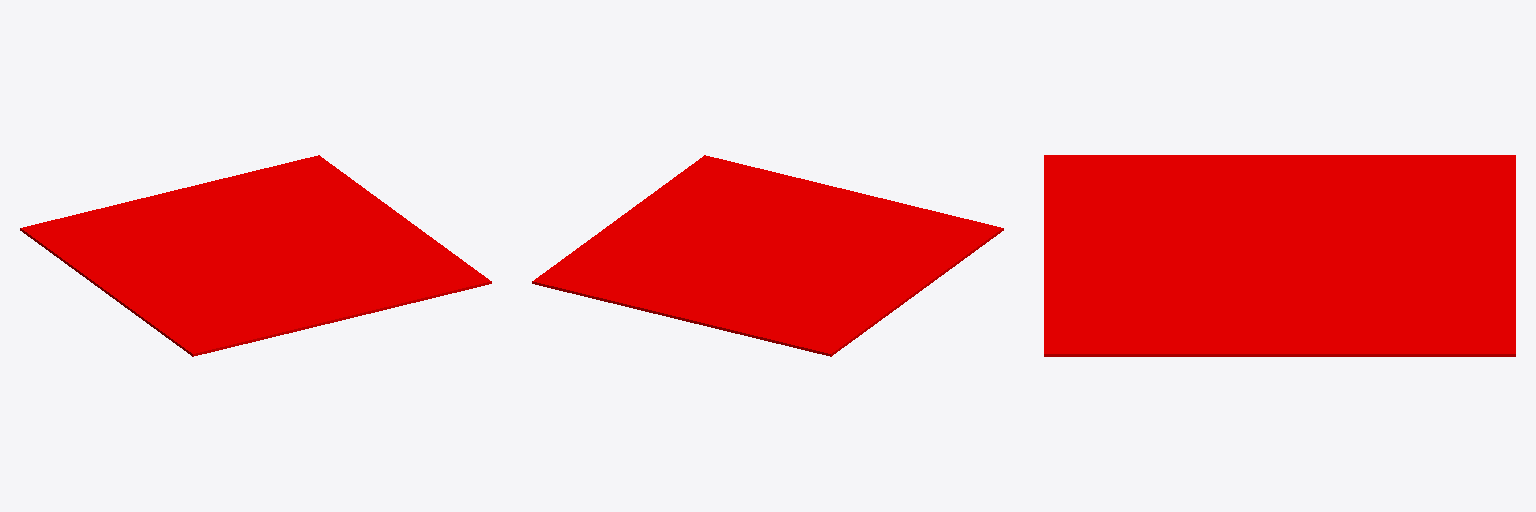
robot.urdf — goal_zone:
<?xml version="1.0" ?>
<robot name="goal_zone">
  <link name="base">
    <visual>
      <origin xyz="0 0 0" rpy="0 0 0"/>
      <geometry>
        <box size="0.12 0.12 0.001"/>
      </geometry>
      <material name="goal_color">
        <color rgba="1 0 0 0.4"/> <!-- green + transparent -->
      </material>
    </visual>
    <collision>
      <origin xyz="0 0 0" rpy="0 0 0"/>
      <geometry>
        <box size="0 0 0"/>
      </geometry>
    </collision>
    <inertial>
      <mass value="0.001"/>
      <inertia ixx="1e-5" iyy="1e-5" izz="1e-5"/>
    </inertial>
  </link>
</robot>

--- Render facts (derived) ---
The picture shows the robot from 3 angles, left to right: view 1: azimuth 30°, elevation 25°; view 2: azimuth 150°, elevation 25°; view 3: azimuth 270°, elevation 25°; orthographic projection.
Robot: goal_zone — 1 links, 0 joints (none); root link base; default pose: all joints at 0.
Visible links, largest first — view 1: base; view 2: base; view 3: base.
Link boxes in pixels (x1,y1,x2,y2): base: (20,155,491,356); base: (532,155,1003,356); base: (1044,155,1515,356).
Bounding box of the posed robot: 0.12 × 0.12 × 0.001 m (x, y, z).
Geometry: primitives only (box / cylinder / sphere), no mesh files.
